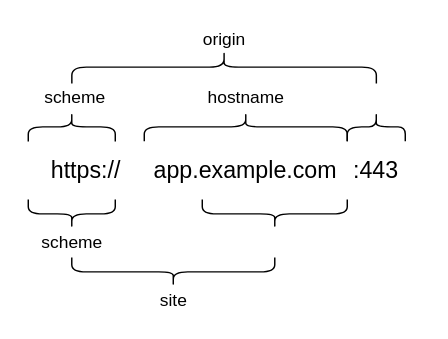
Image size: 448x339. Some labels were removed from this diagram. The shapes that lost their labels are listed below. From the top down, each one's centre as x and y in pixels, then its label:
At (375,126): "port".
At (274,213): "eTLD+1".
